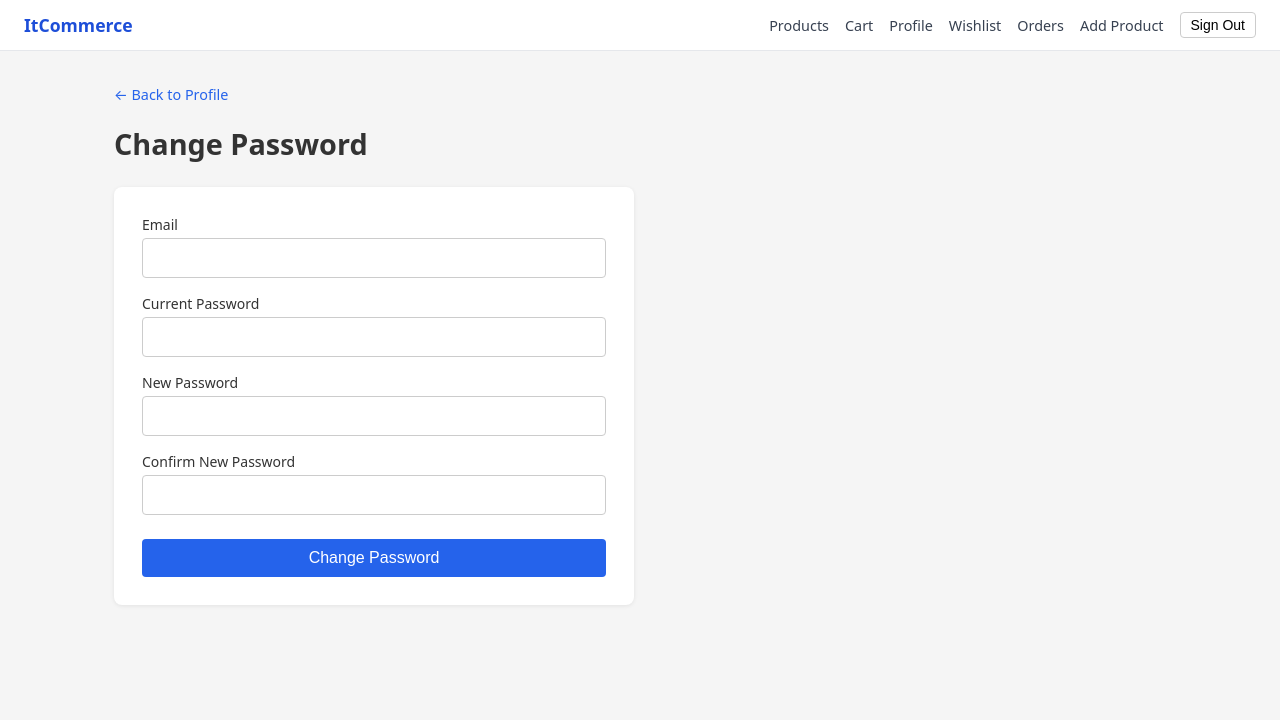
Test: ChangePassword › validation › shows error for empty email
Click the button "Change Password": (374, 558) [142,539,606,577]
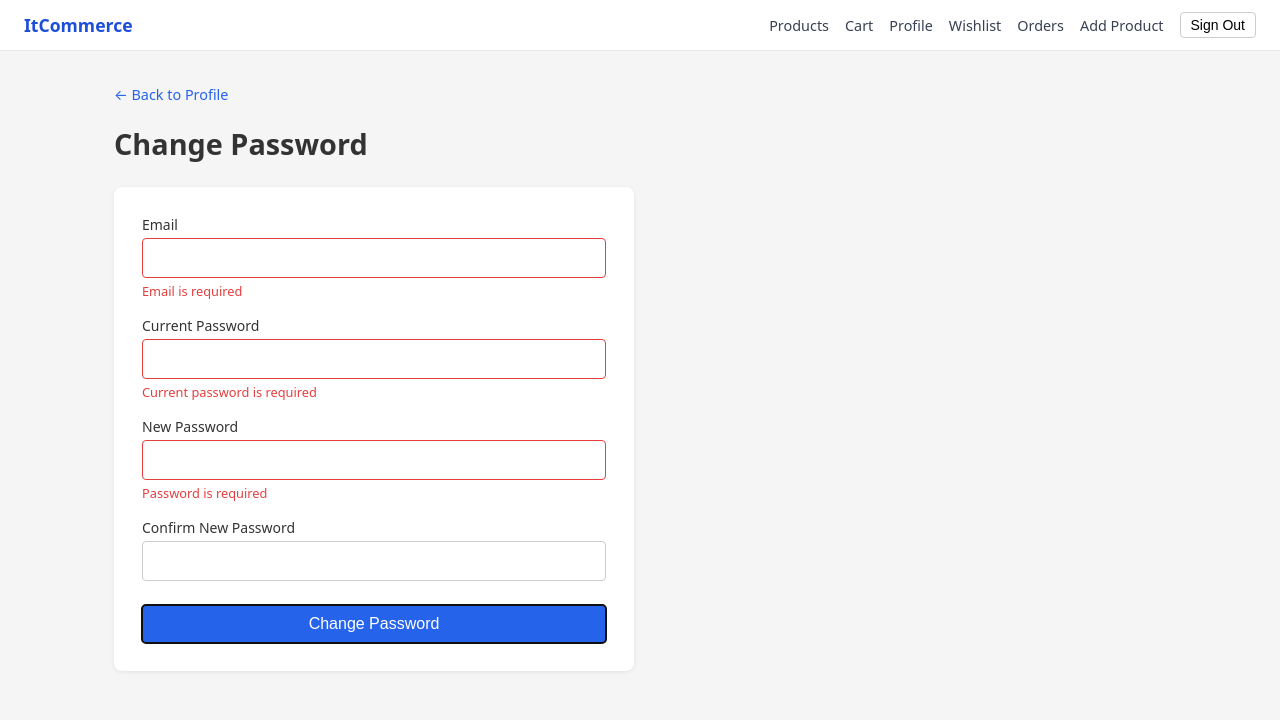
expect the text "Email is required" is shown: met, box [142,282,242,300]
